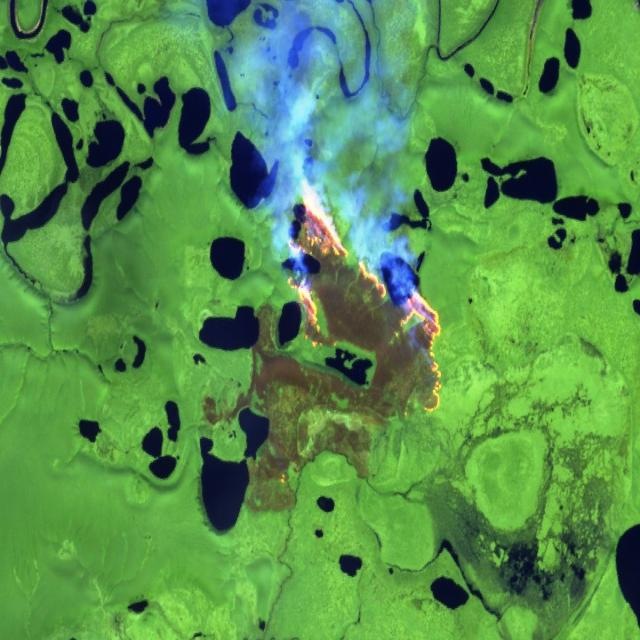fire: (284, 171, 447, 420)
